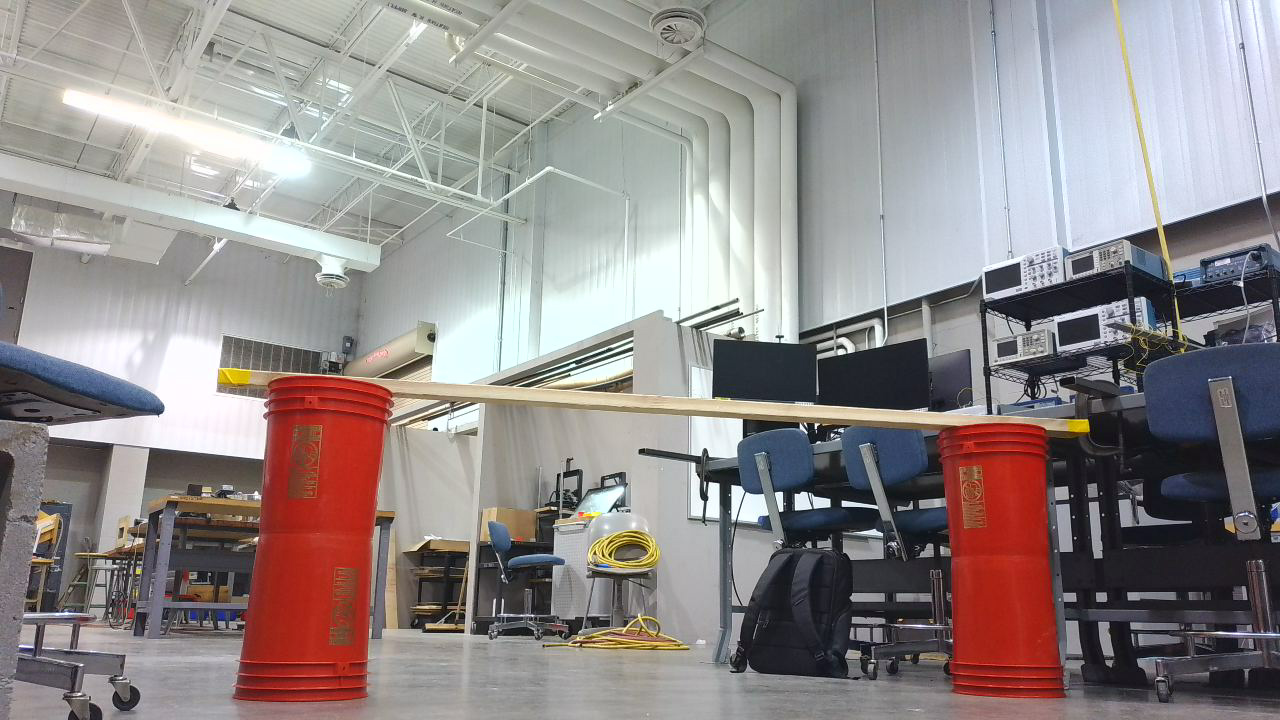red_bucketArch: (236, 376, 1074, 710)
